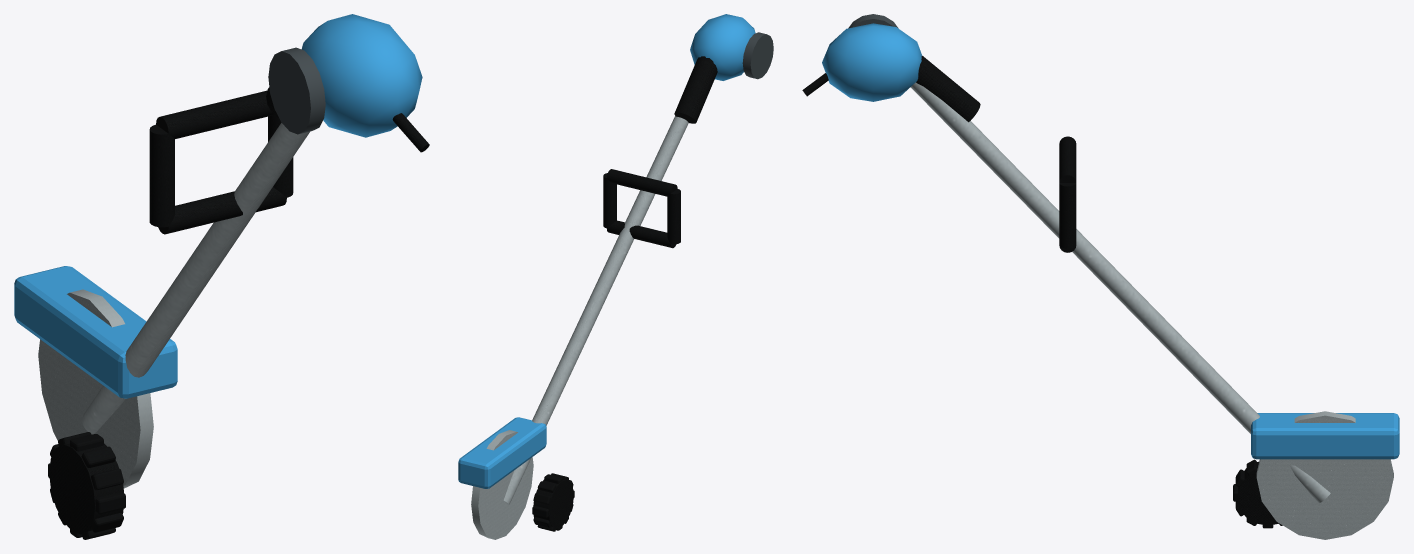
Rendered from ElectricEdger.gltf.
3 renders of one model, left to right at view 1: azimuth 30°, elevation 25°; view 2: azimuth 150°, elevation 25°; view 3: azimuth 270°, elevation 25°, orthographic. The views are drawn at different scales.
Visible parts, largest first — view 1: ElectricEdger__Body, ElectricEdger__Wheel_Blade, ElectricEdger__Wheel_Guide; view 2: ElectricEdger__Body, ElectricEdger__Wheel_Blade, ElectricEdger__Wheel_Guide; view 3: ElectricEdger__Body, ElectricEdger__Wheel_Blade, ElectricEdger__Wheel_Guide.
Boxes of the visible parts, bbox=[...] form: ElectricEdger__Body: bbox=[14, 14, 429, 434]; ElectricEdger__Wheel_Blade: bbox=[38, 289, 153, 488]; ElectricEdger__Wheel_Guide: bbox=[48, 432, 125, 539]; ElectricEdger__Body: bbox=[458, 14, 773, 505]; ElectricEdger__Wheel_Blade: bbox=[471, 430, 533, 539]; ElectricEdger__Wheel_Guide: bbox=[532, 473, 574, 531]; ElectricEdger__Body: bbox=[802, 14, 1399, 503]; ElectricEdger__Wheel_Blade: bbox=[1256, 411, 1393, 539]; ElectricEdger__Wheel_Guide: bbox=[1233, 459, 1282, 528].
Size of the model in its own units: 0.3276 by 1.33 by 1.46.
3 materials, 1 textured.
